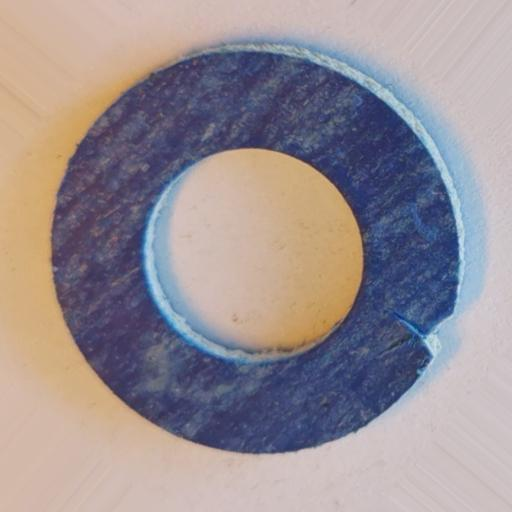defect: (381, 305, 454, 373)
